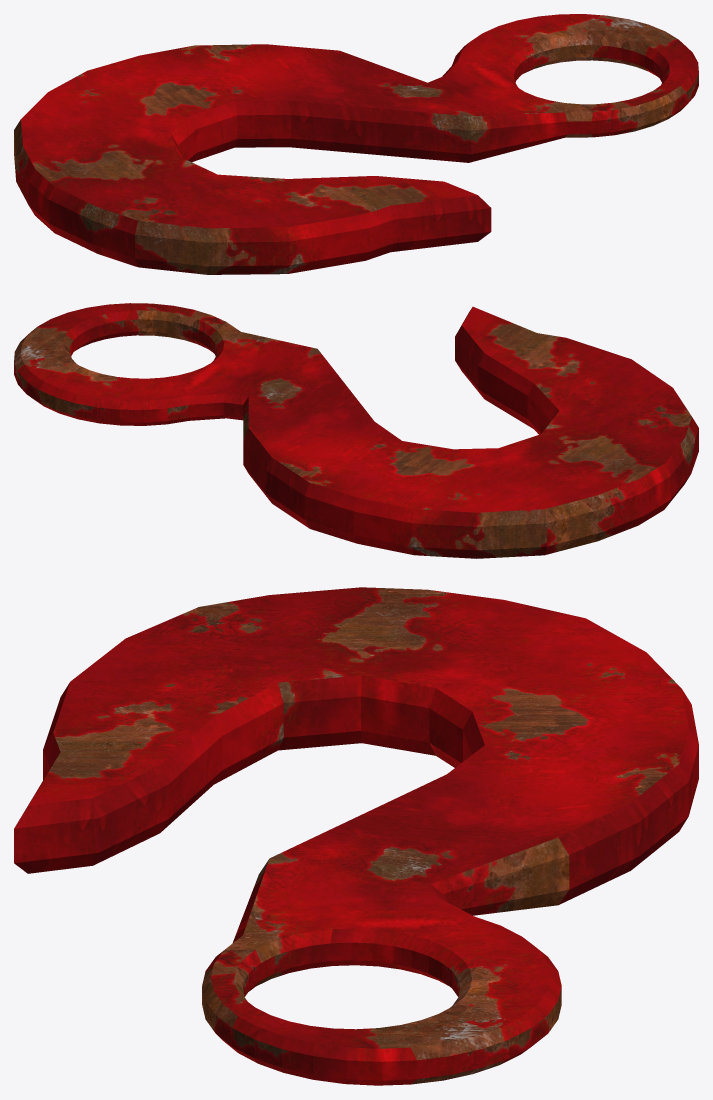
File: gancho-polydavid.glb
3 views of the same model, one above another, from view 1: azimuth 30°, elevation 25°; view 2: azimuth 150°, elevation 25°; view 3: azimuth 270°, elevation 25° (orthographic). The views are drawn at different scales.
Visible parts, largest first — view 1: Object_4; view 2: Object_4; view 3: Object_4.
Boxes of the visible parts, x1,y1,x2,y2 form: Object_4: [14, 14, 698, 274]; Object_4: [14, 303, 698, 558]; Object_4: [14, 587, 698, 1085].
Size of the model in its own units: 5.58 by 0.3879 by 3.55.
1 material, 1 textured.
